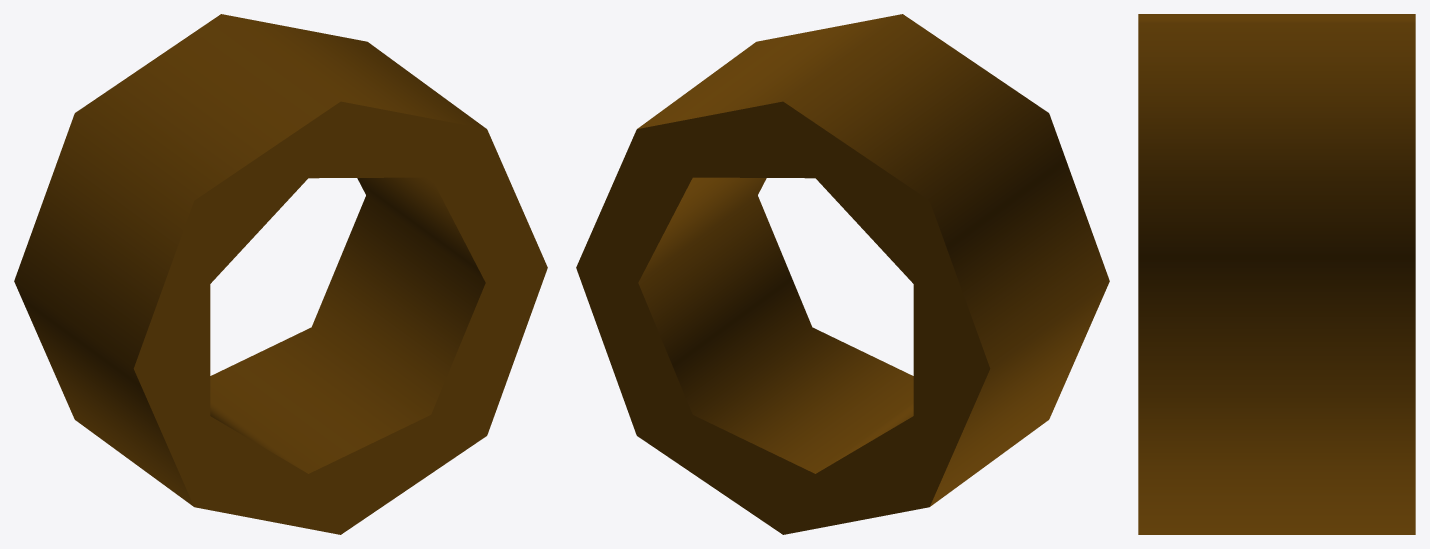
Rendered from Pallier barillet Mouvement avant.obj.
3 renders of one model, left to right at view 1: azimuth 30°, elevation 25°; view 2: azimuth 150°, elevation 25°; view 3: azimuth 270°, elevation 25°, orthographic. The views are drawn at different scales.
Visible parts, largest first — view 1: Face_3, Face_1, Face_4; view 2: Face_3, Face_2, Face_4; view 3: Face_3.
Boxes of the visible parts, box(x1,y1,x2,y2) form: Face_3: box(14, 14, 486, 506); Face_1: box(133, 101, 547, 534); Face_4: box(210, 177, 485, 473); Face_3: box(637, 14, 1109, 506); Face_2: box(576, 101, 990, 534); Face_4: box(638, 177, 913, 473); Face_3: box(1138, 14, 1415, 534).
Size of the model in its own units: 0.012 by 0.012 by 0.006.
